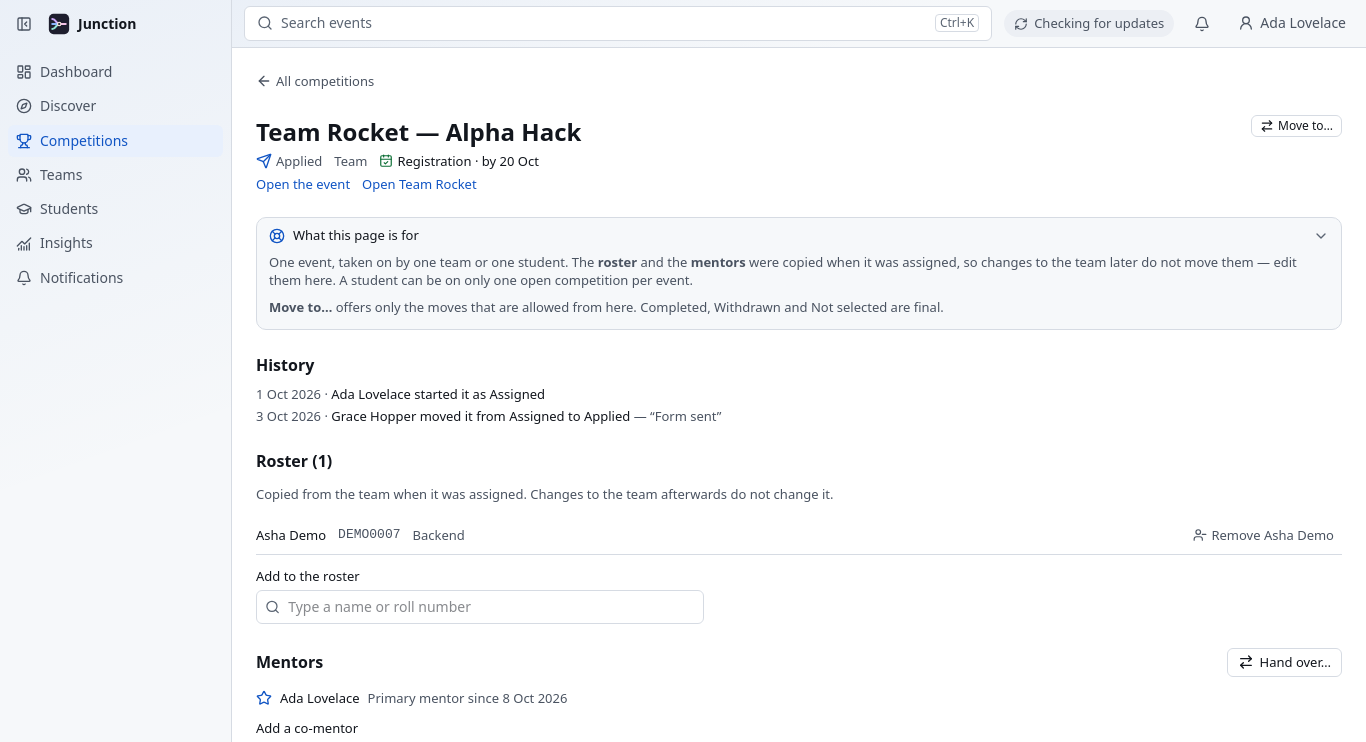
the competition page › shows the A14 refusal inline when a roster add clashes
The image size is (1366, 742).
Expected: the navigation bar named "Main" is shown, x1=0 y1=0 x2=231 y2=302
Expected: the heading "Team Rocket — Alpha Hack" is shown, x1=256 y1=115 x2=581 y2=148
In the dropdown labelled "Add to the roster": (492, 607) x1=288 y1=591 x2=695 y2=623, type "Meera"
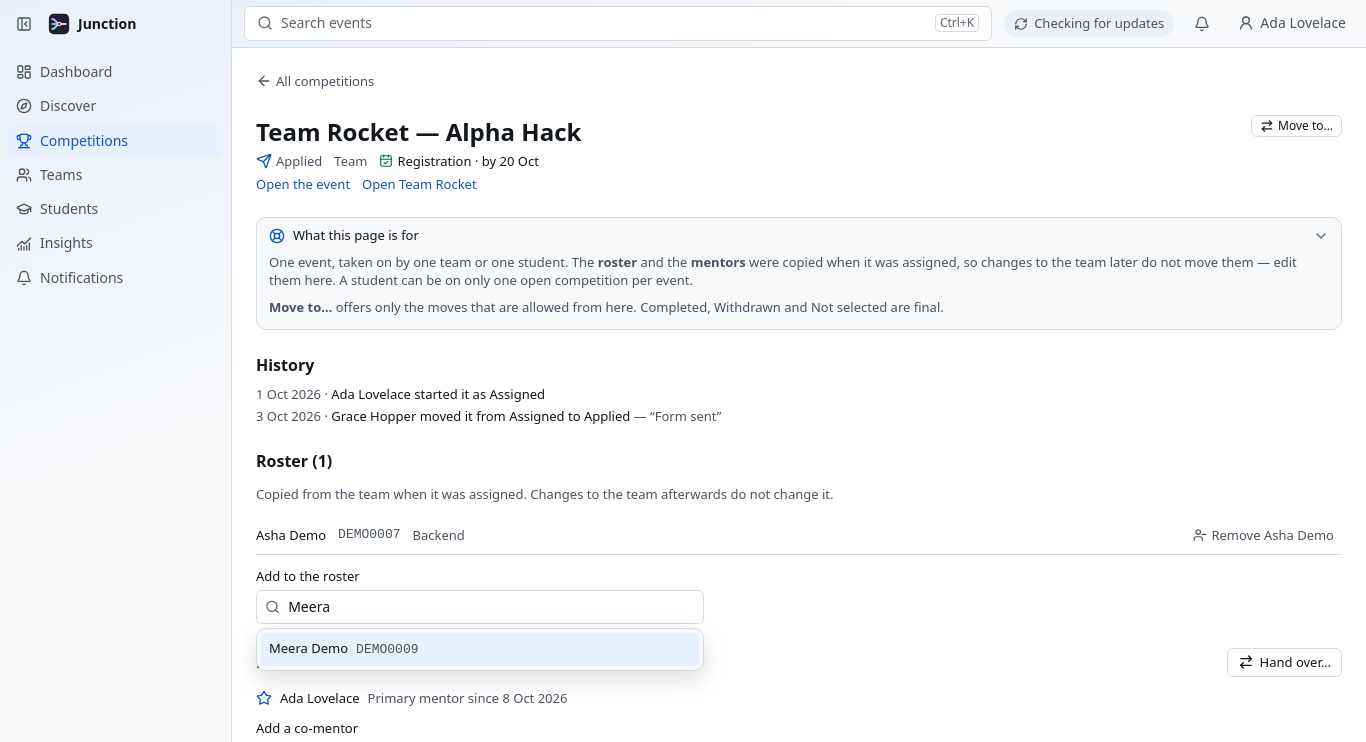
Click the option "Meera Demo DEMO0009": click(309, 648) x1=261 y1=633 x2=699 y2=666
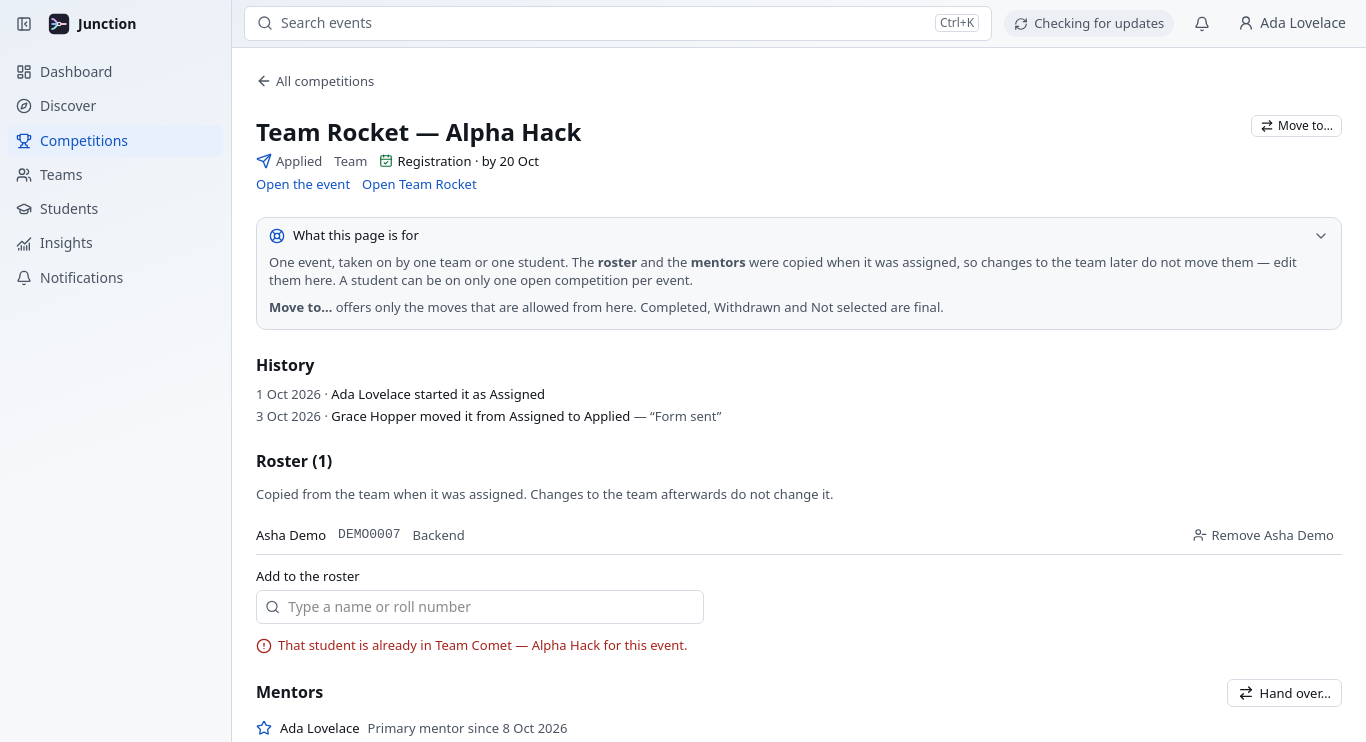
Expected: the message shows "already in Team Comet — Alpha Hack for this event", x1=278 y1=636 x2=688 y2=654
